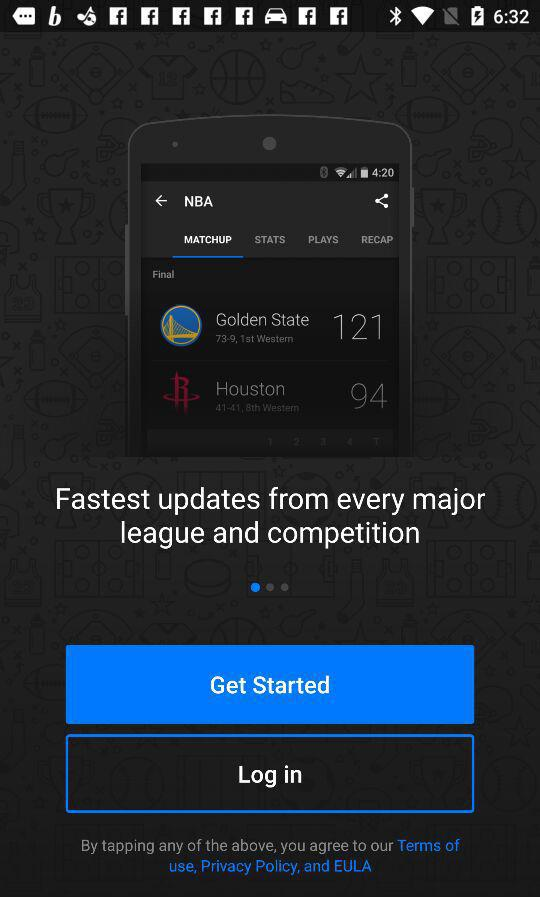BackgroundImage: (1, 33, 540, 897)
Image: (124, 114, 414, 456)
PageIndicator: (249, 581, 290, 594)
Text: (56, 486, 487, 551), (82, 837, 460, 877)
TextButton: (66, 644, 475, 725), (66, 733, 475, 814)
UpperTaskBar: (1, 1, 540, 33)
